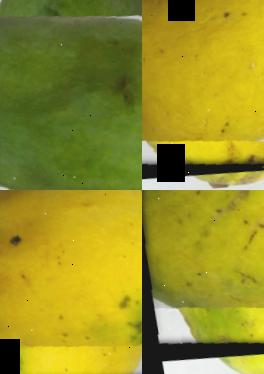PartiallyRipe: (142, 190, 264, 369)
Ripe: (0, 190, 142, 374), (142, 0, 264, 187)
Unripe: (0, 0, 142, 190)
